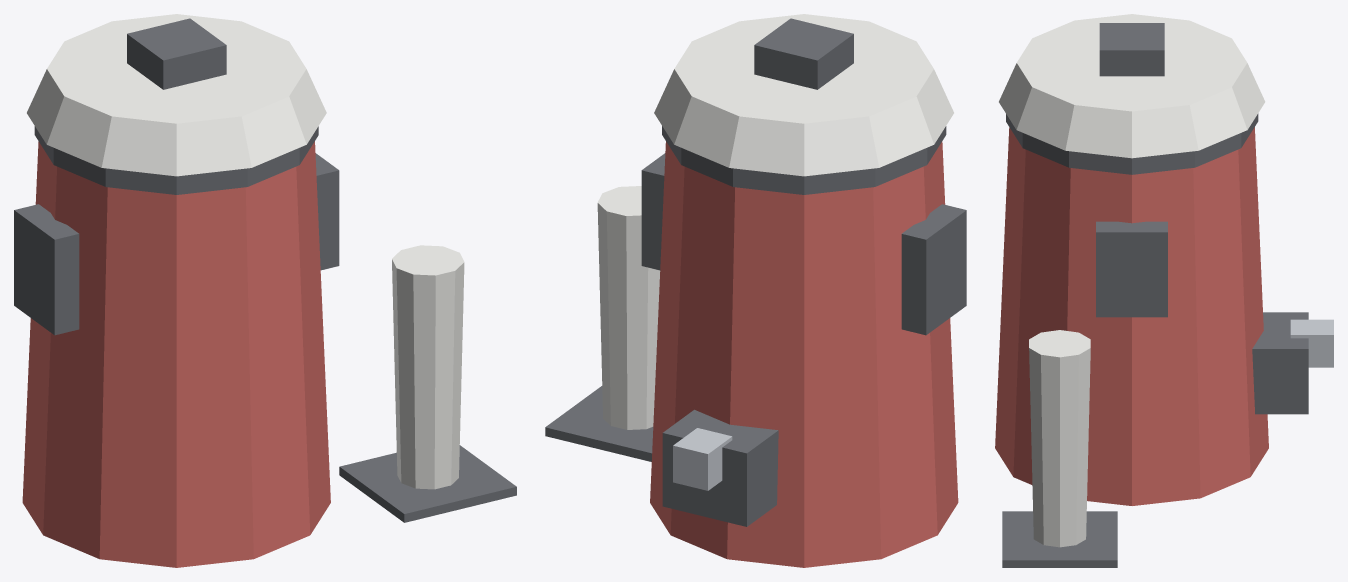
File: baseball-park-and-batting-cages-water-cooler-adb4f10a__33776.glb
3 renders of one model, left to right at view 1: azimuth 30°, elevation 25°; view 2: azimuth 150°, elevation 25°; view 3: azimuth 270°, elevation 25°, orthographic. The views are drawn at different scales.
Parts seen in each view (by area): view 1: water-cooler, lid/white, lid/charcoal; view 2: water-cooler, lid/white, lid/charcoal; view 3: water-cooler, lid/white, lid/charcoal.
Boxes of the visible parts, x1,y1,x2,y2 form: water-cooler: (14, 126, 516, 567); lid/white: (27, 14, 326, 176); lid/charcoal: (127, 18, 226, 89); water-cooler: (545, 126, 966, 567); lid/white: (654, 14, 953, 176); lid/charcoal: (754, 18, 853, 89); water-cooler: (995, 113, 1333, 567); lid/white: (999, 14, 1265, 158); lid/charcoal: (1099, 23, 1164, 76).
Size of the model in its own units: 0.5825 by 0.636 by 0.47.
